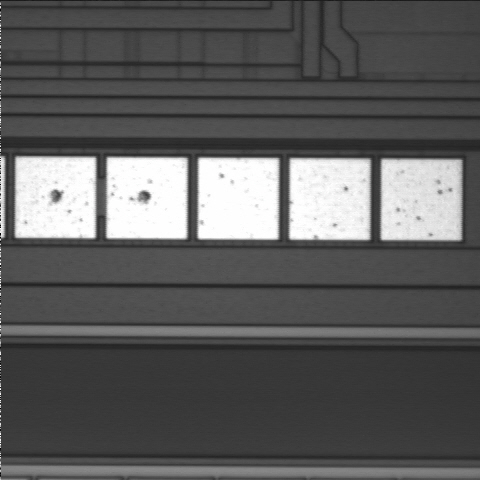pad: (106, 157, 187, 239), (198, 158, 279, 240), (289, 158, 370, 240), (15, 157, 96, 238), (381, 159, 461, 240)
